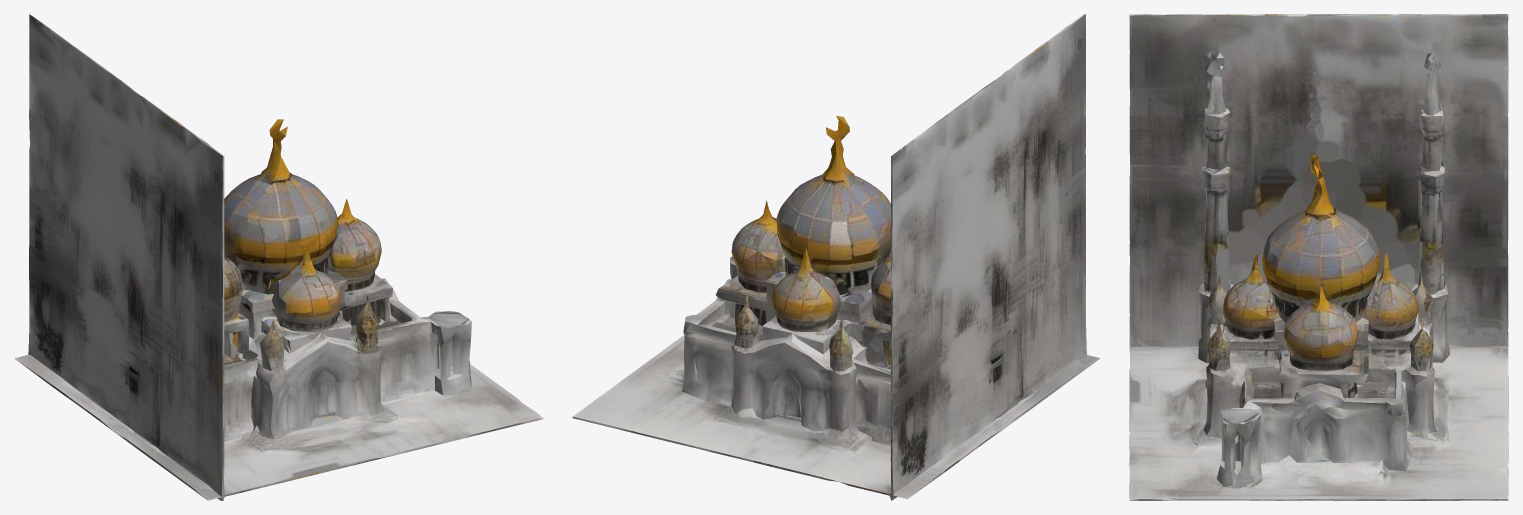
The model's file is crystal-mosque.glb.
3 renders of one model, left to right at view 1: azimuth 30°, elevation 25°; view 2: azimuth 150°, elevation 25°; view 3: azimuth 270°, elevation 25°, orthographic. The views are drawn at different scales.
Visible parts, largest first — view 1: logan-textured.obj; view 2: logan-textured.obj; view 3: logan-textured.obj.
Part boxes in pixels (box(x1,y1,x2,y2)): logan-textured.obj: box(14, 14, 543, 500); logan-textured.obj: box(572, 14, 1100, 500); logan-textured.obj: box(1129, 14, 1508, 500).
Size of the model in its own units: 0.9998 by 0.9891 by 1.
1 material, 1 textured.
